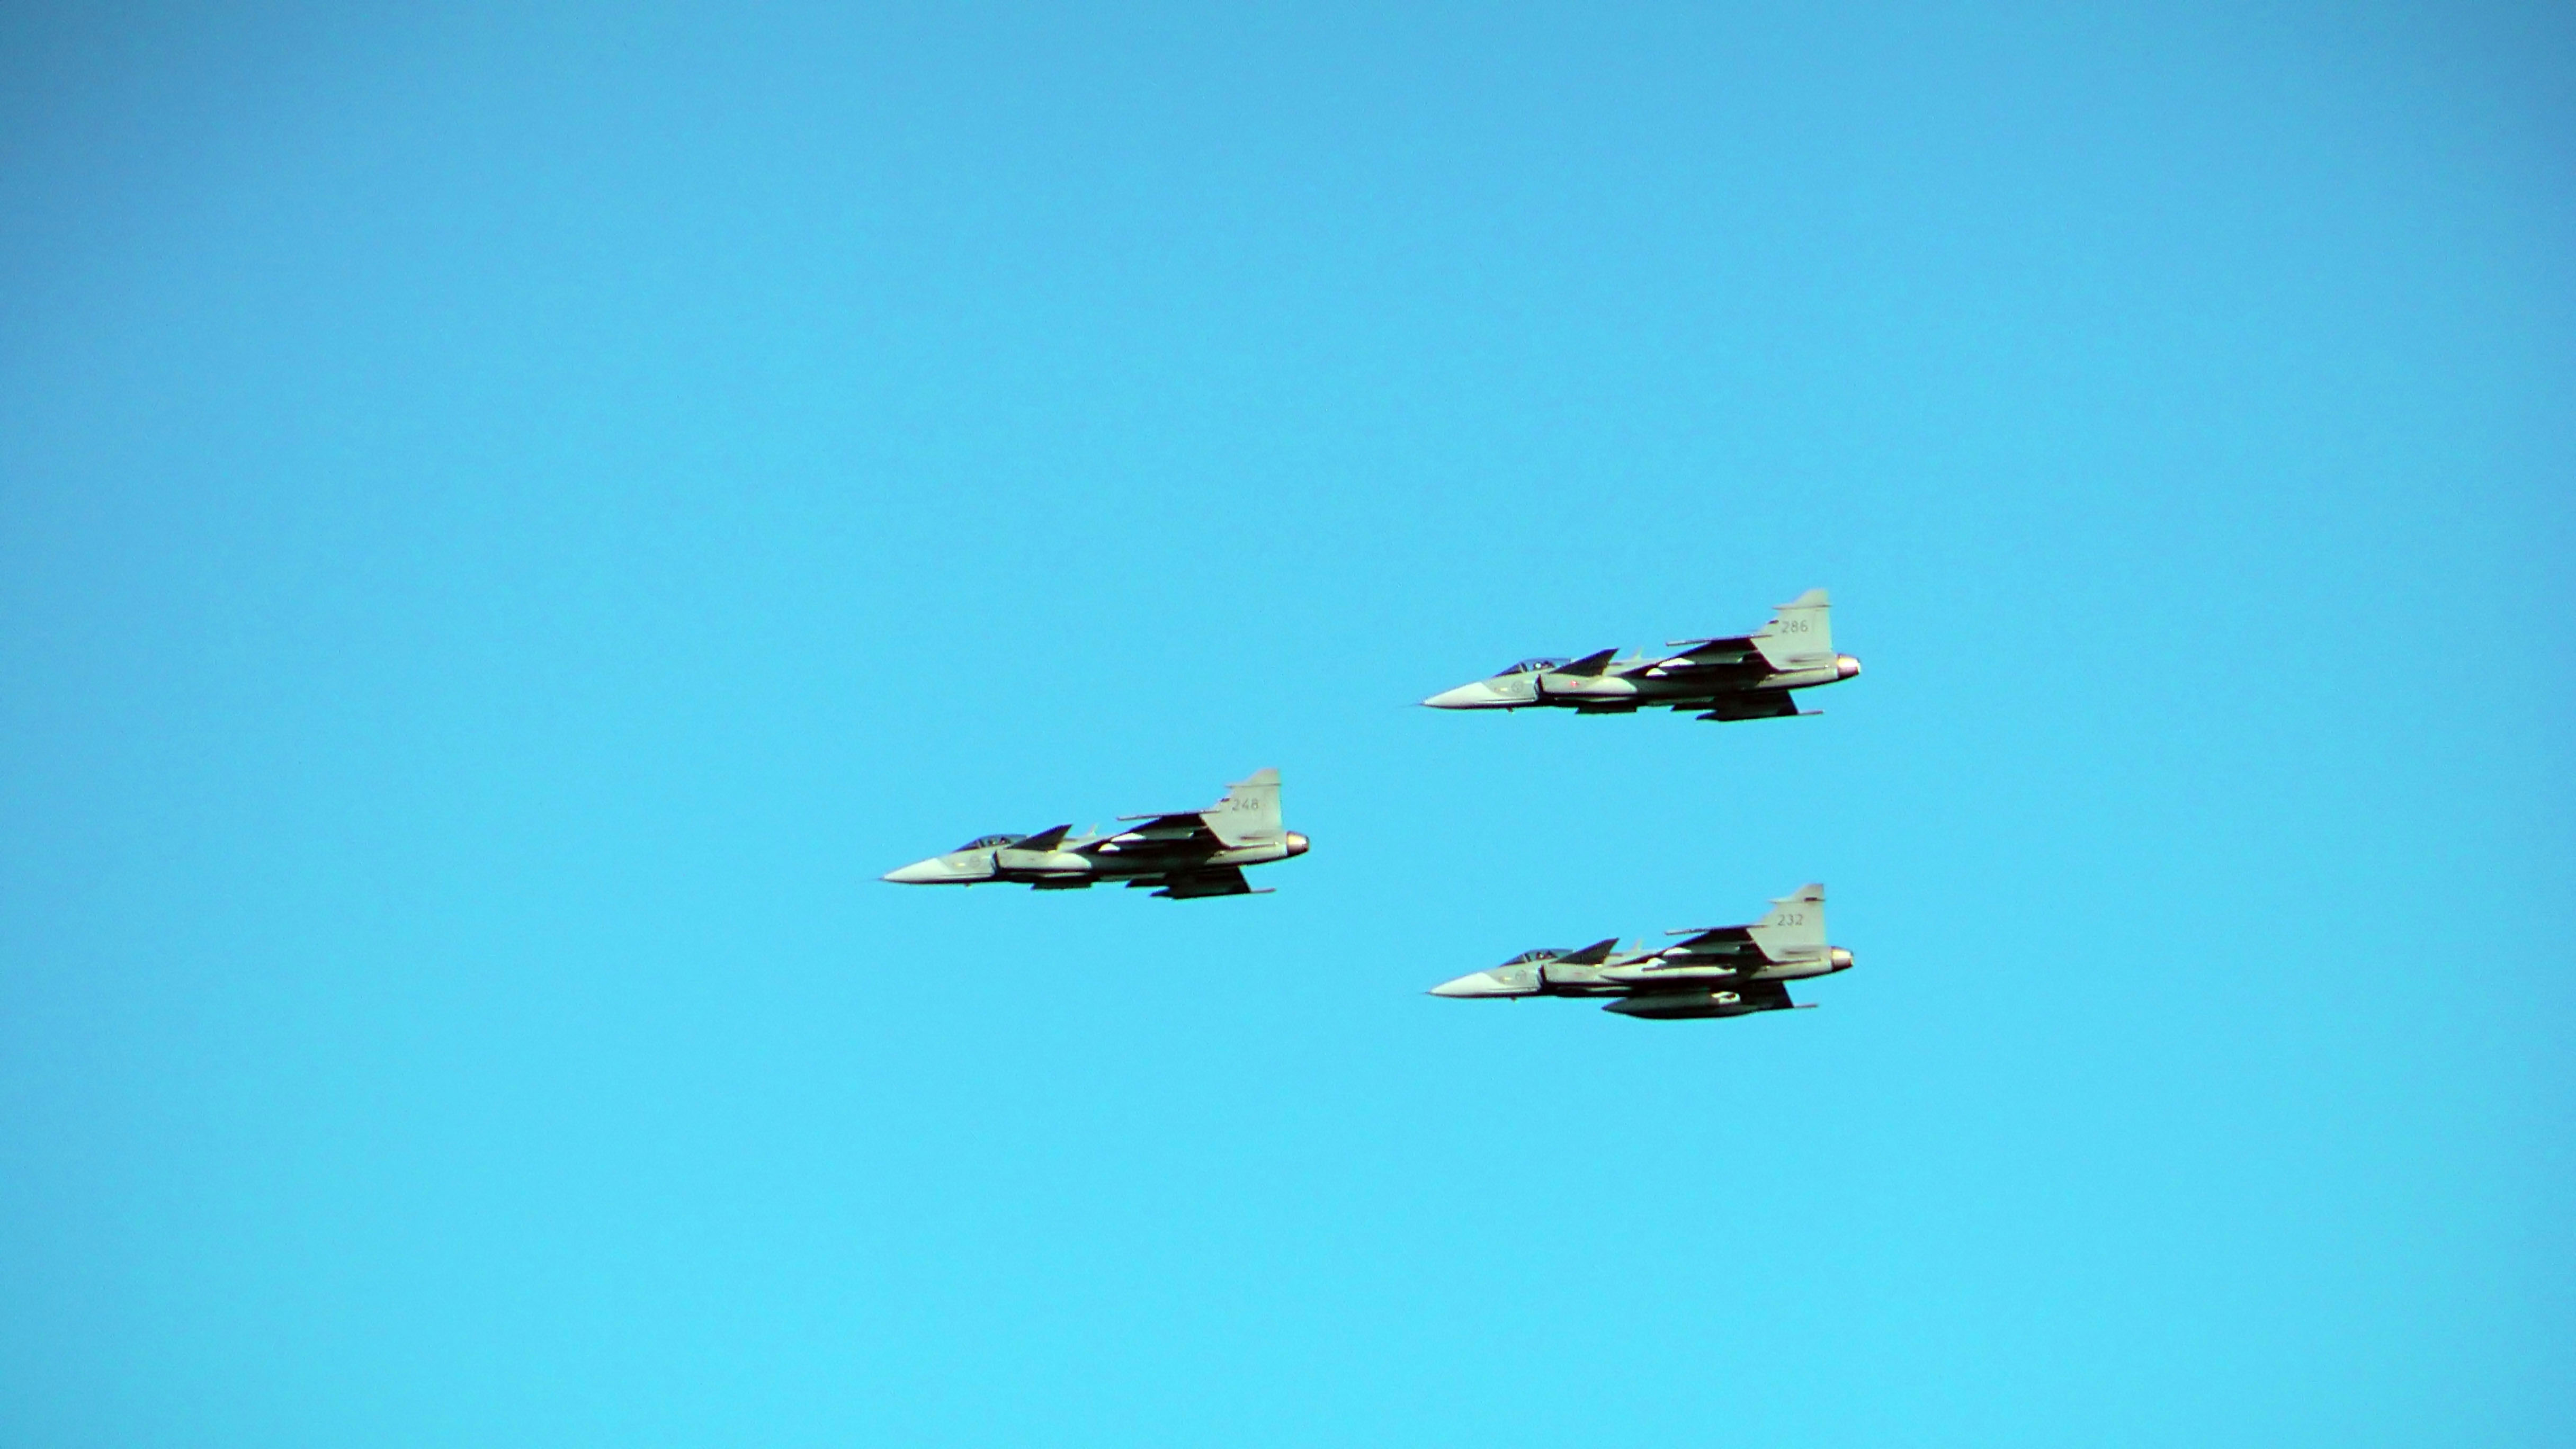JAS39: (1391, 586, 1863, 722), (1401, 881, 1854, 1021), (853, 766, 1311, 901)
